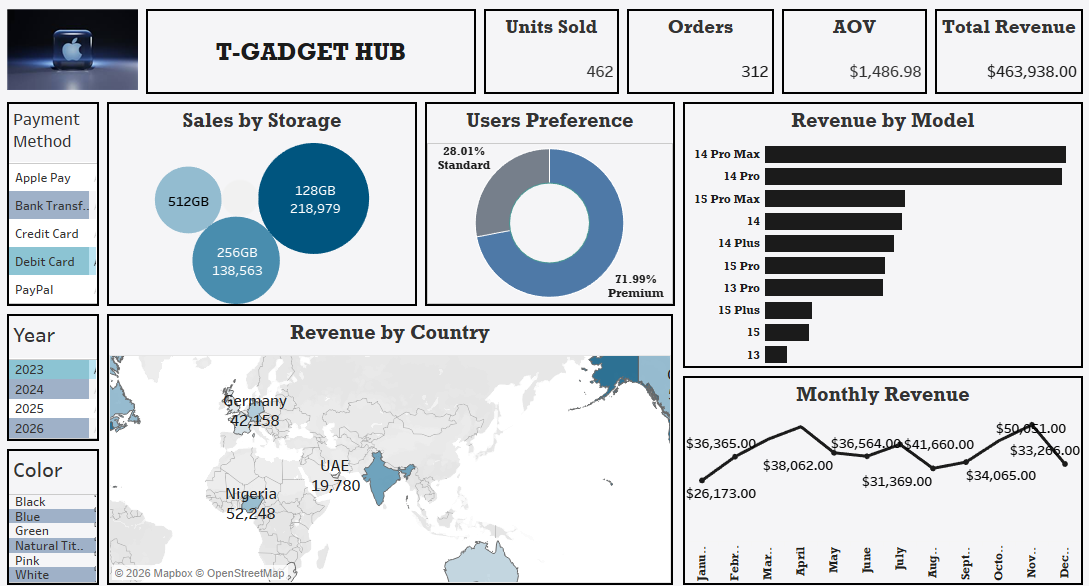

This screenshot's page, from the dashboard's own definition file:
{"tool":"tableau","page":{"name":"Dashboard 1","canvas":[1100,600],"ordinal":0},"visuals":[{"type":"image","param":"C:/Users/LENOVO/Downloads/images 22.jpg","box":[8,8,139,93]},{"type":"text","box":[147,8,338,93]},{"type":"worksheet","title":"Sheet 11","mark":"Automatic","box":[485,8,143,93]},{"type":"worksheet","title":"Sheet 12","mark":"Automatic","box":[628,8,155,93]},{"type":"worksheet","title":"Sheet 13","mark":"Automatic","box":[783,8,153,93]},{"type":"worksheet","title":"Sheet 9","mark":"Automatic","box":[936,8,156,93]},{"type":"worksheet","title":"Sheet 8","mark":"Automatic","rows":["Payment_Method"],"box":[8,101,100,212]},{"type":"worksheet","title":"Sheet 4","mark":"Circle","box":[108,101,318,212]},{"type":"worksheet","title":"Sheet 6","mark":"Pie","rows":["Calculation_568016511600300036","Calculation_568016511600300036"],"box":[426,101,258,212]},{"type":"worksheet","title":"Sheet 1","mark":"Automatic","rows":["iPhone_Model - Split 1"],"cols":["Revenue_USD"],"box":[684,101,408,274]},{"type":"worksheet","title":"Sheet 7","mark":"Automatic","rows":["Sale_Date"],"box":[8,313,100,135]},{"type":"worksheet","title":"Sheet 2","mark":"Automatic","box":[108,313,574,279]},{"type":"worksheet","title":"Sheet 3","mark":"Automatic","rows":["Revenue_USD"],"cols":["Calculation_568016511592304640"],"box":[684,375,408,217]},{"type":"worksheet","title":"Sheet 14","mark":"Automatic","rows":["Color"],"box":[8,448,100,144]}]}

Visuals, with their boxes in screenshot pixels (x1, y1, x2, y2), scaled from the page's 1100x600 canvas onto the 1089x586 screenshot:
image: Rect(8, 8, 146, 99)
text: Rect(146, 8, 480, 99)
"Sheet 11" worksheet: Rect(480, 8, 622, 99)
"Sheet 12" worksheet: Rect(622, 8, 775, 99)
"Sheet 13" worksheet: Rect(775, 8, 927, 99)
"Sheet 9" worksheet: Rect(927, 8, 1081, 99)
"Sheet 8" worksheet: Rect(8, 99, 107, 306)
"Sheet 4" worksheet (Circle marks): Rect(107, 99, 422, 306)
"Sheet 6" worksheet (Pie marks): Rect(422, 99, 677, 306)
"Sheet 1" worksheet: Rect(677, 99, 1081, 366)
"Sheet 7" worksheet: Rect(8, 306, 107, 438)
"Sheet 2" worksheet: Rect(107, 306, 675, 578)
"Sheet 3" worksheet: Rect(677, 366, 1081, 578)
"Sheet 14" worksheet: Rect(8, 438, 107, 578)
